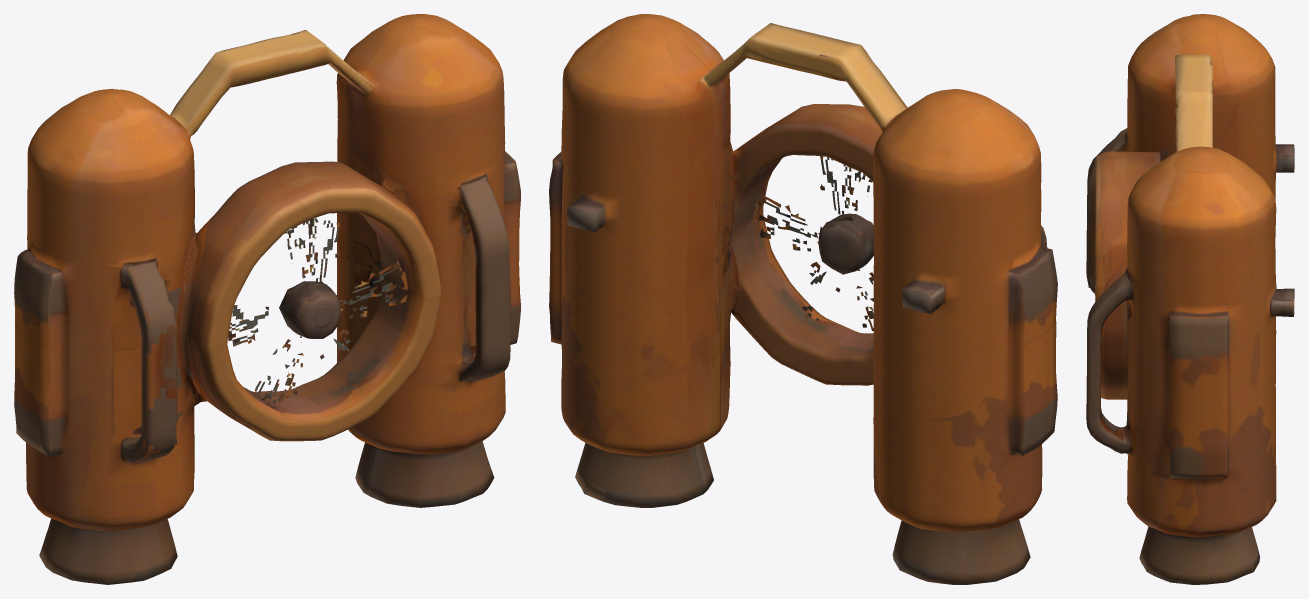
The model's file is jetpack.glb.
The picture shows the model from 3 angles, left to right: view 1: azimuth 30°, elevation 25°; view 2: azimuth 150°, elevation 25°; view 3: azimuth 270°, elevation 25°; orthographic projection. The views are drawn at different scales.
Visible parts, largest first — view 1: Mesh0; view 2: Mesh0; view 3: Mesh0.
Boxes of the visible parts, x1,y1,x2,y2 form: Mesh0: (14,14,520,584); Mesh0: (549,14,1057,584); Mesh0: (1086,14,1294,584).
Bounding box in the file's own units: 2 × 1.87 × 0.8445.
1 material, 1 textured.
